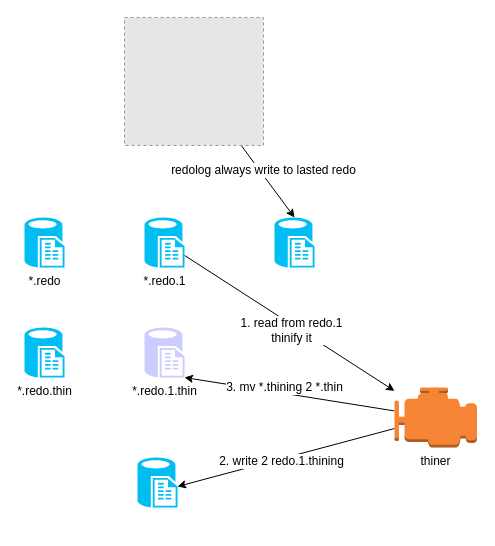
Image size: 495x546. Some labels were removed from this diagram. Grey dashed boxes stand in for pictures. Here are the shapes that lost their labels. From the top down, the box of each, then its label:
(274, 217, 314, 267): *.redo.2
(137, 457, 177, 507): *.redo.1.thining
